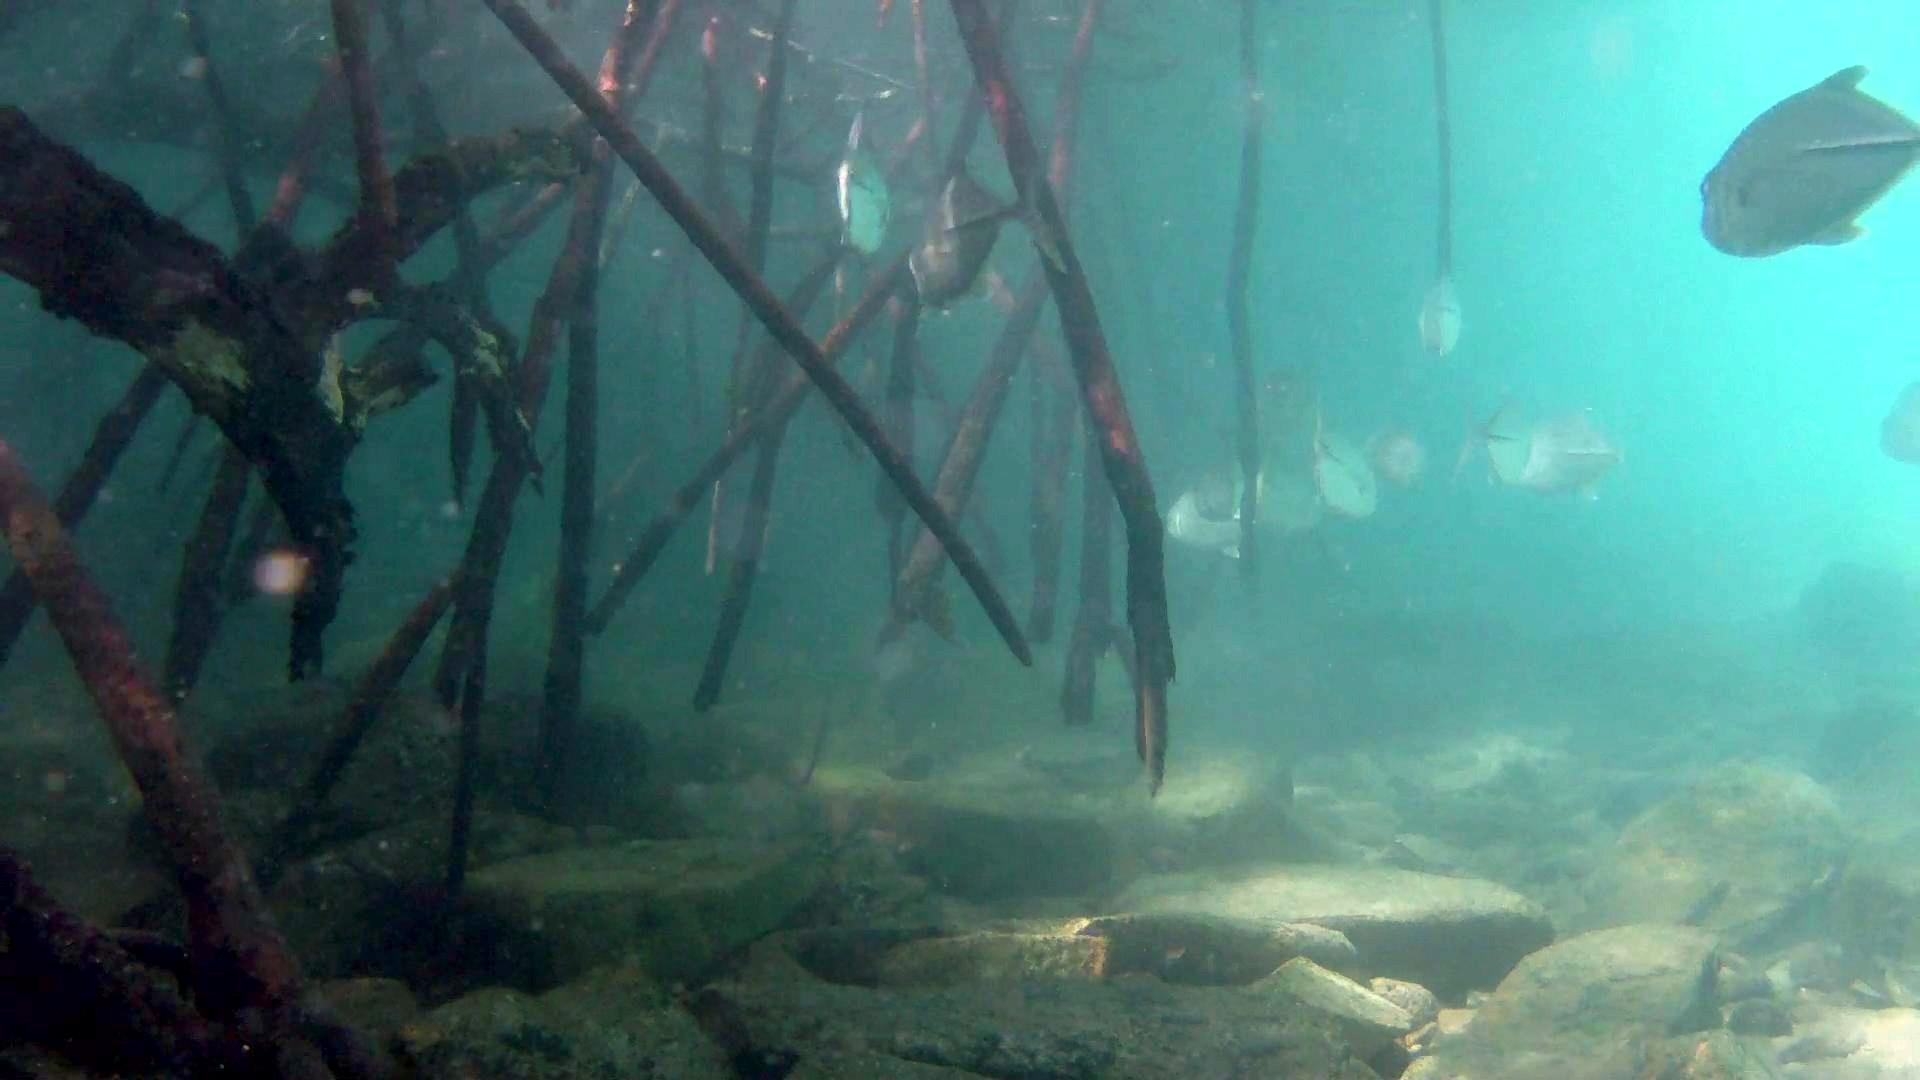caranx: (1691, 59, 1920, 266), (899, 141, 1080, 314)
